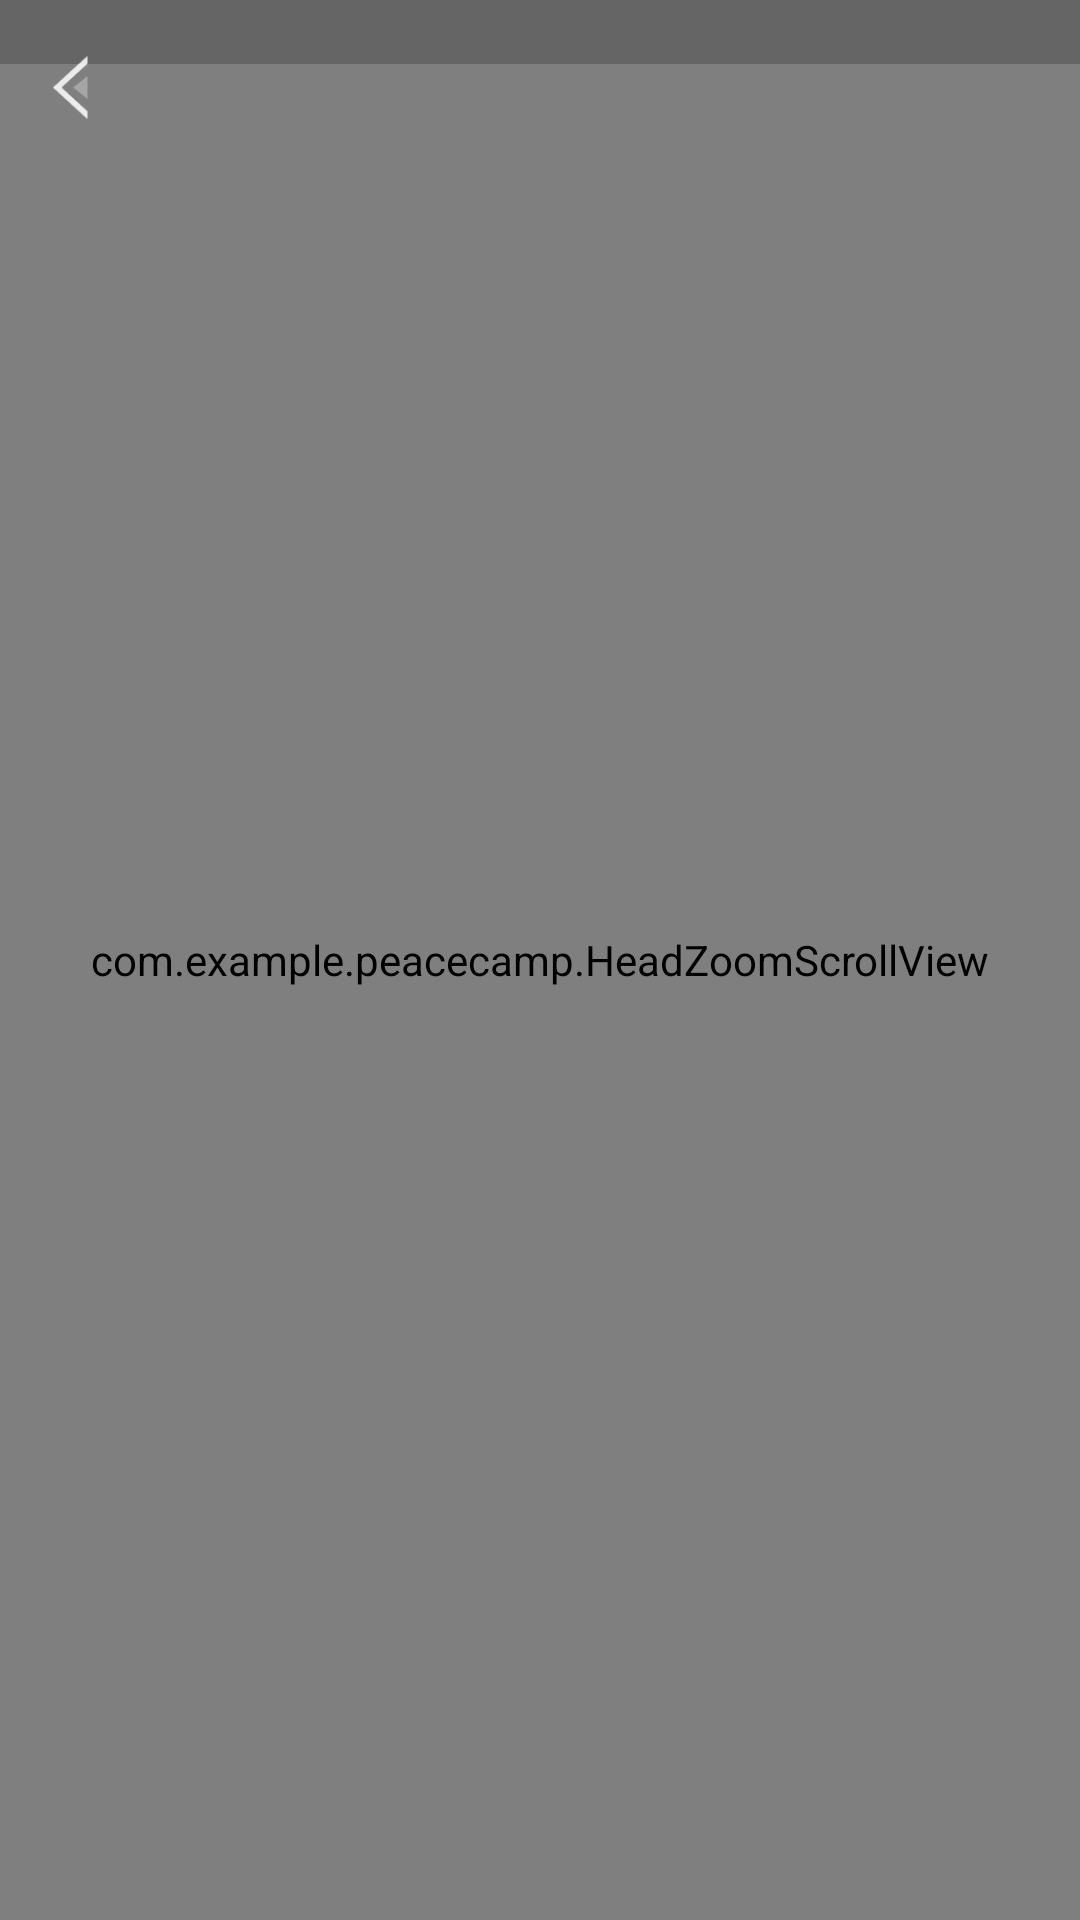

Icons on this 1080*1920 Android screen, each with its box as detection(x1, y1, x2, y2):
back: detection(53, 53, 122, 119)
